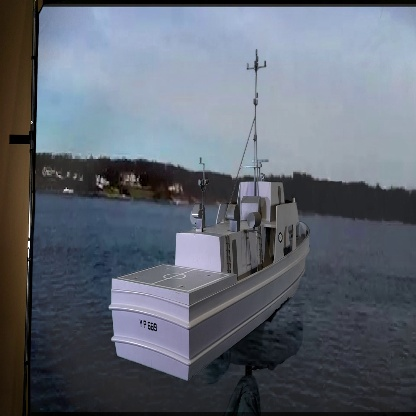YP689: (108, 46, 312, 382)
